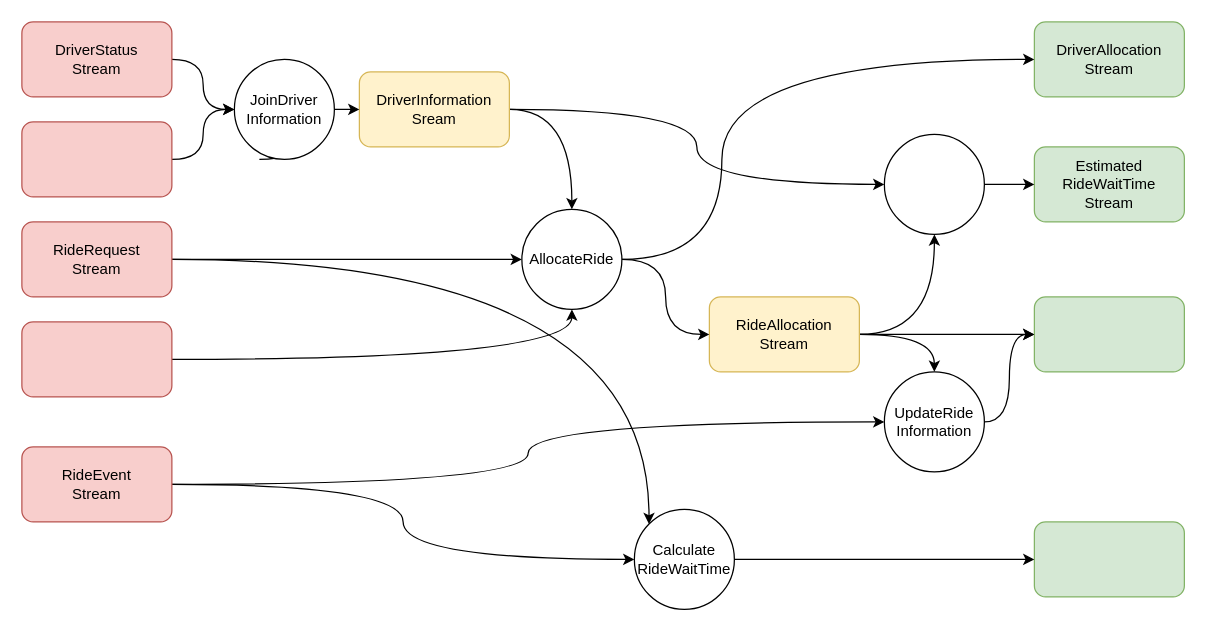
The diagram is 1206 pixels wide and 631 high, and some of its shapes have lost their labels. Each missing label, with the centre of its shape:
CurrentRide Information Stream: [96,359]
DriverLocation Stream: [96,159]
Estimate RideWaitTime: [933,183]
RideWaitTime Stream: [1108,559]
UpdatedRide Information Stream: [1108,334]
